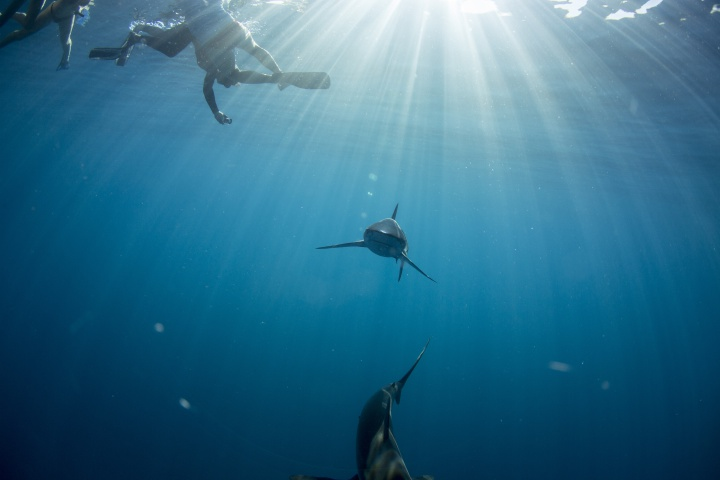Sedoso: (307, 201, 450, 290)
